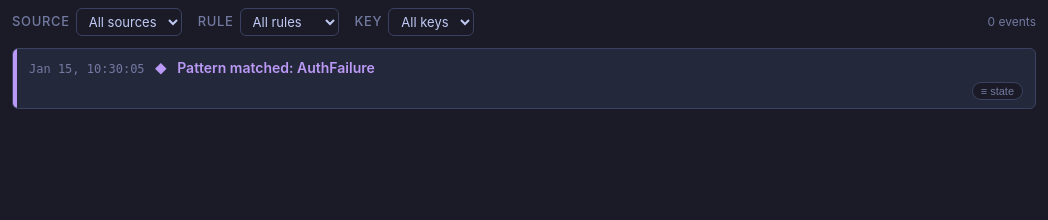
Test: StateEvolutionView (Event Feed) › pattern state panel expands on button click showing state_snapshot with set_at times
Check: the text "State at match time" is not shown
Click the button titled "Toggle pattern state snapshot". click: point(997, 91)
box: x1=972 y1=82 x2=1023 y2=100
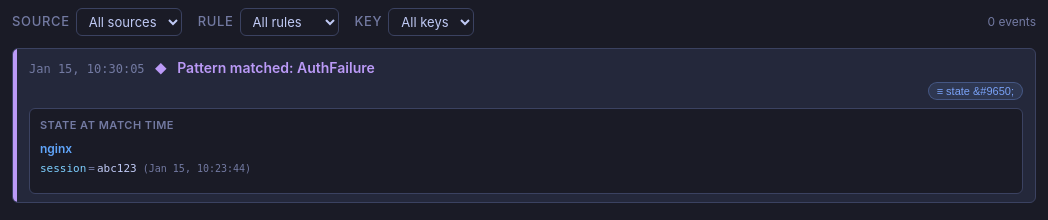
Check: the text "State at match time" is shown, box x1=40 y1=118 x2=174 y2=132
Check: the element with class "state-panel" is shown, box x1=29 y1=108 x2=1023 y2=194
Check: the element with class "state-panel" shows "session", box x1=40 y1=162 x2=86 y2=174
Click again to collapse
Click the button titled "Toggle pattern state snapshot". click: point(975, 91)
box: x1=928 y1=82 x2=1023 y2=100
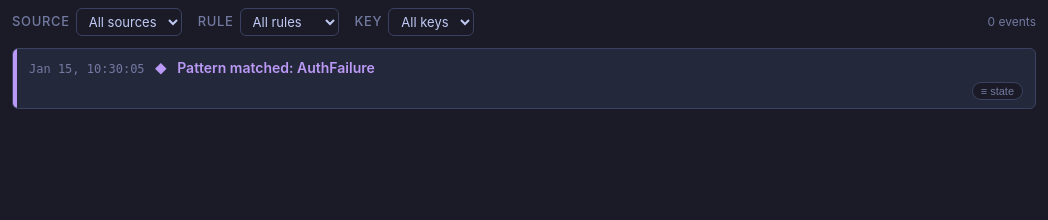
Check: the text "State at match time" is gone
